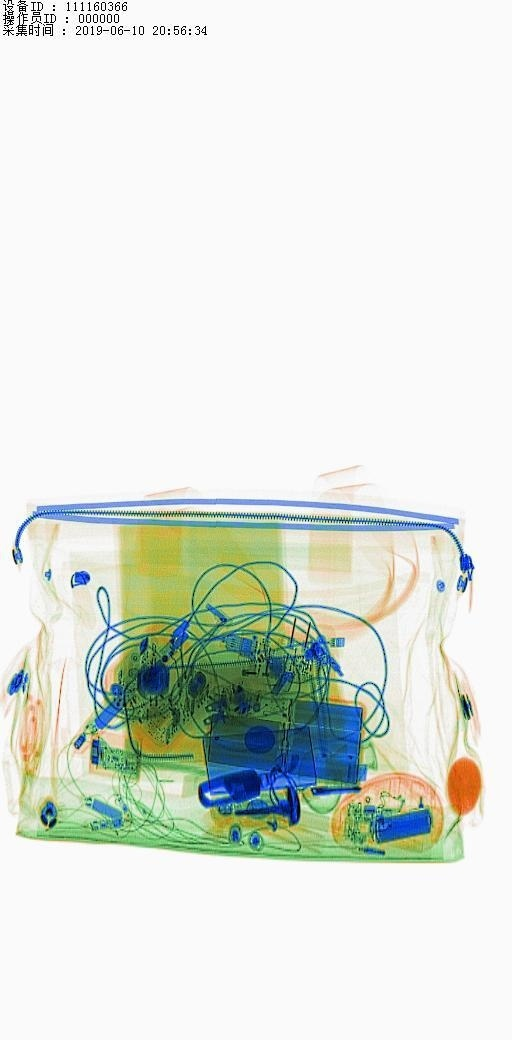NonmetallicFire: (199, 658, 315, 695)
